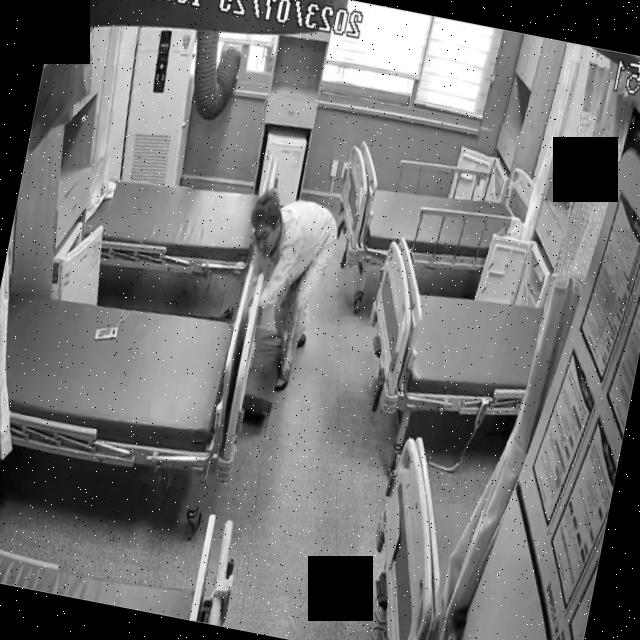bed: (0, 268, 243, 483), (350, 234, 552, 441), (332, 137, 537, 291), (78, 138, 279, 292)
danger: (219, 186, 344, 398)
patient: (218, 186, 344, 399)
